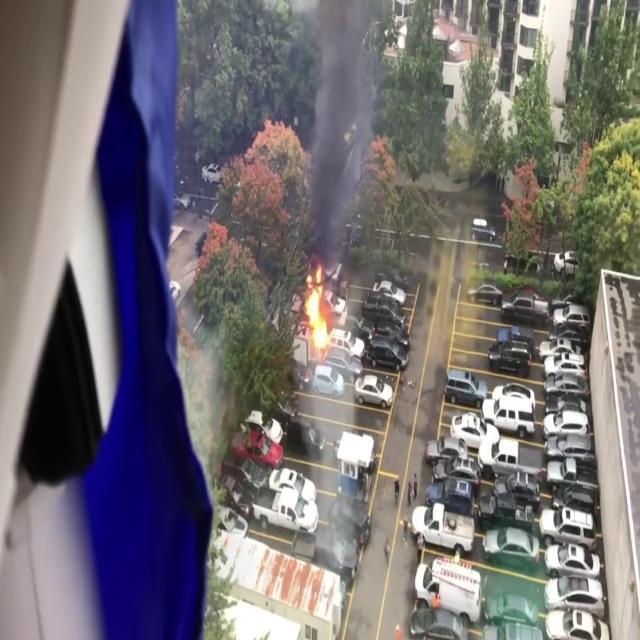Fire: (298, 262, 336, 351)
Smoke: (295, 0, 385, 262)
